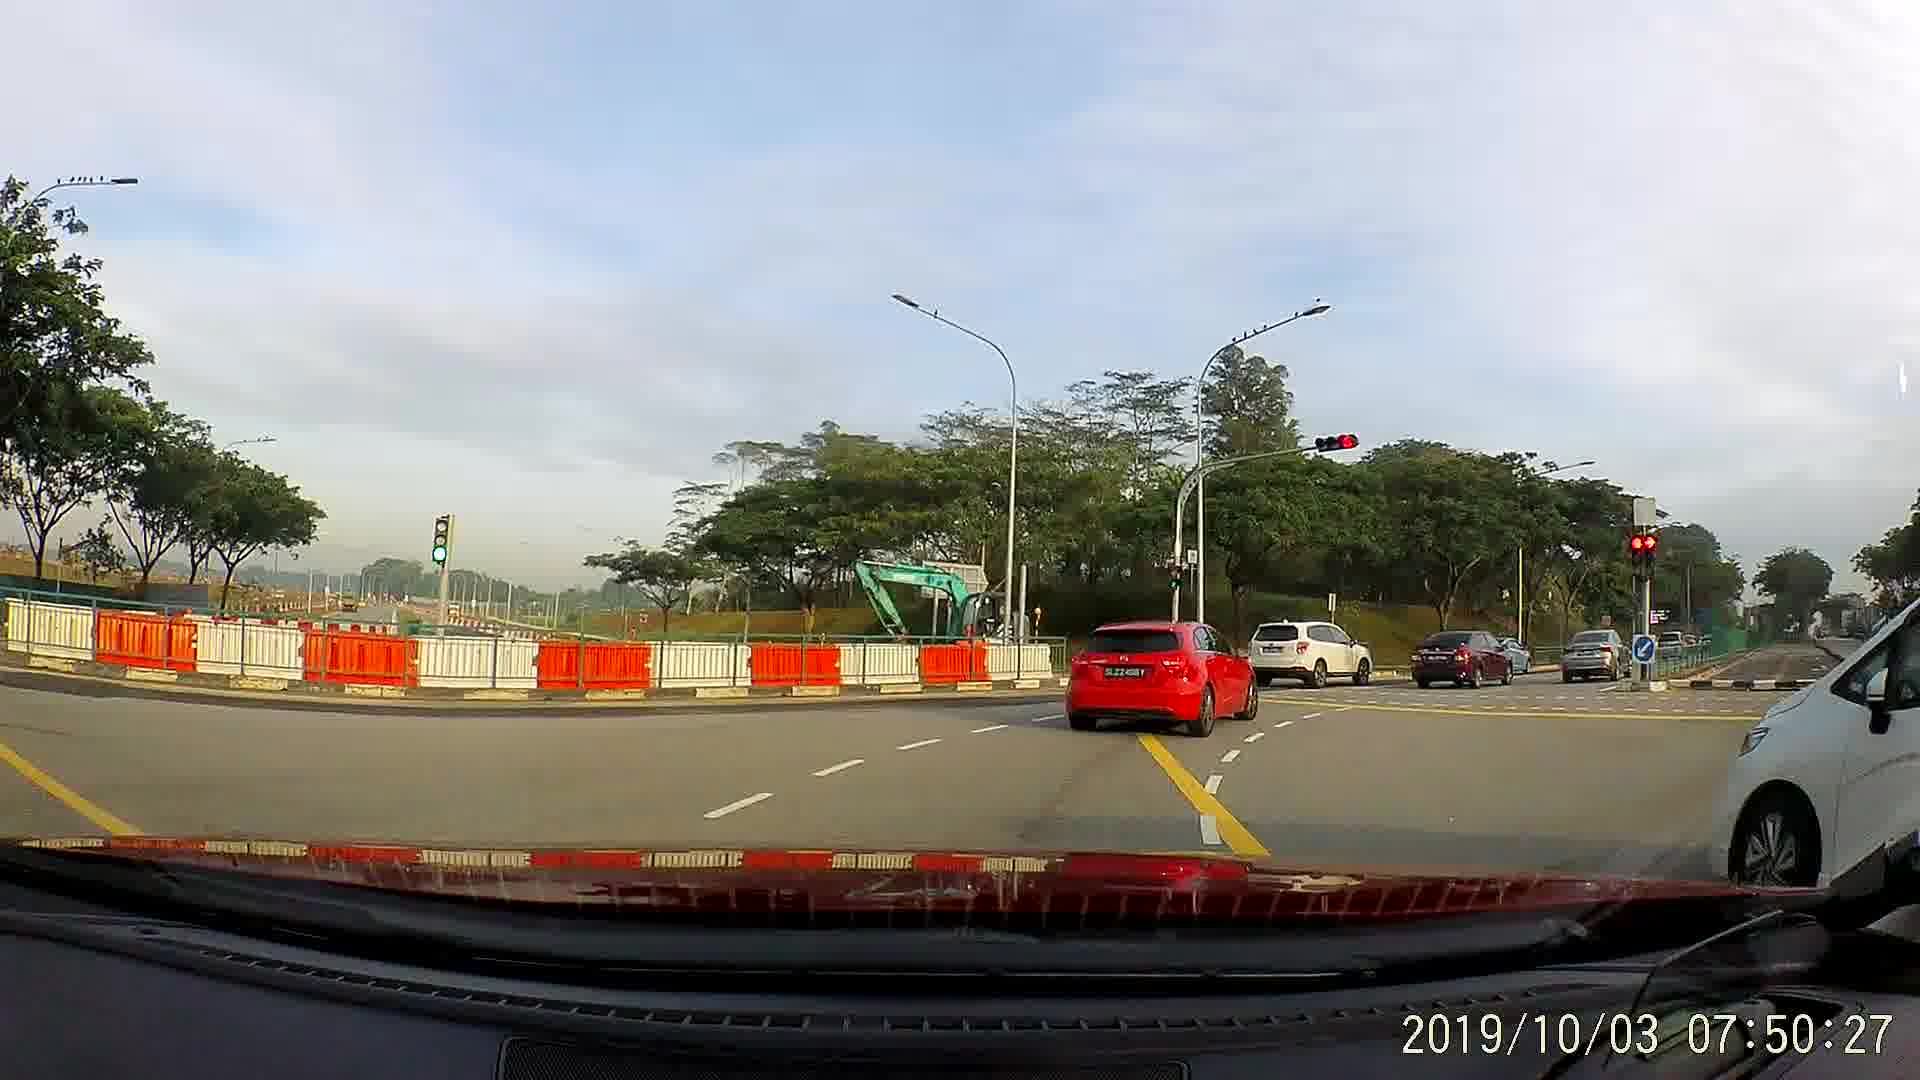car: (1706, 578, 1911, 894), (1065, 616, 1265, 740), (1247, 603, 1377, 698), (1407, 621, 1522, 692), (1557, 616, 1635, 690), (1658, 626, 1696, 666)
